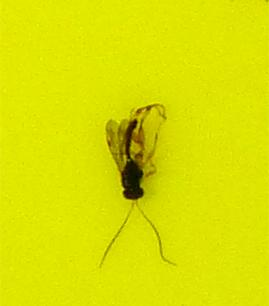Hymenoptera: (100, 100, 169, 206)
